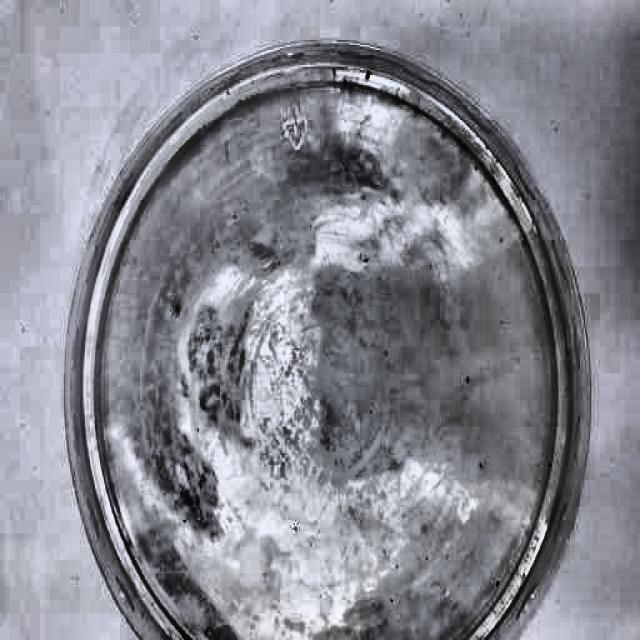plastic: (67, 35, 598, 640)
